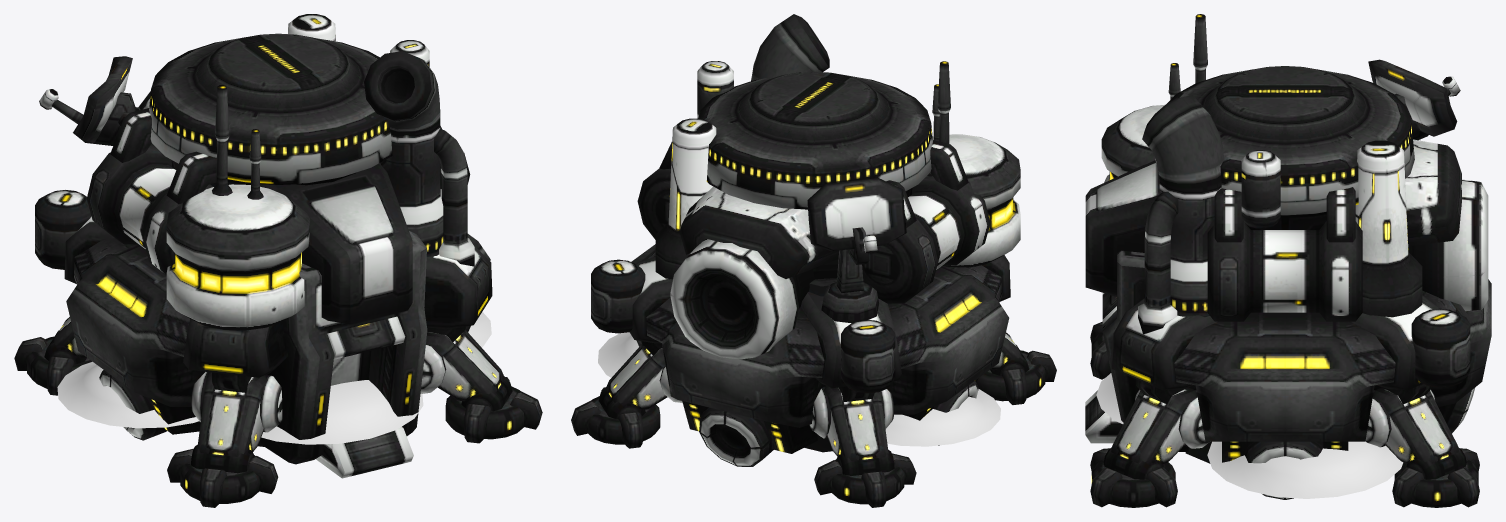
The model's file is UED_ScienceFacility_V1.glb.
3 renders of one model, left to right at view 1: azimuth 30°, elevation 25°; view 2: azimuth 150°, elevation 25°; view 3: azimuth 270°, elevation 25°, orthographic. The views are drawn at different scales.
Parts seen in each view (by area): view 1: Bldg_Terran_ScienceFaclity_Main, Mesh.001, Mesh; view 2: Bldg_Terran_ScienceFaclity_Main, Mesh.001, Mesh; view 3: Bldg_Terran_ScienceFaclity_Main, Mesh.001, Mesh.
Part boxes in pixels (x1,y1,x2,y2): Bldg_Terran_ScienceFaclity_Main: (35,14,492,464); Mesh.001: (14,56,542,507); Mesh: (57,312,491,444); Bldg_Terran_ScienceFaclity_Main: (591,14,1020,466); Mesh.001: (571,61,1056,507); Mesh: (598,332,1000,446); Bldg_Terran_ScienceFaclity_Main: (1085,66,1491,499); Mesh.001: (1085,14,1479,507); Mesh: (1096,373,1403,498).
Bounding box in the file's own units: 4.47 × 3.85 × 3.85.
Materials: 3 (2 with a texture image).
